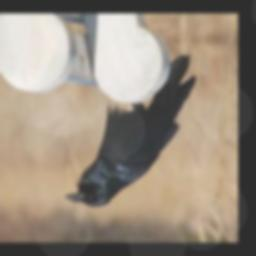Crow: (64, 54, 197, 208)
